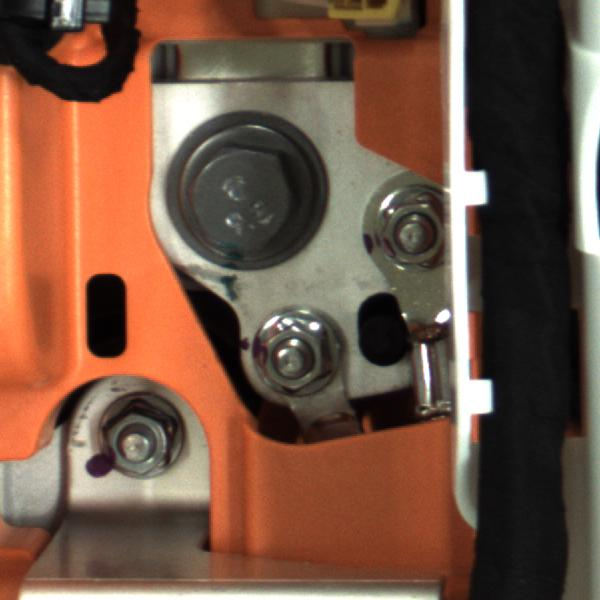nut_b: (162, 122, 315, 266)
screw_s: (252, 298, 348, 403), (90, 392, 186, 487), (352, 179, 451, 268)
